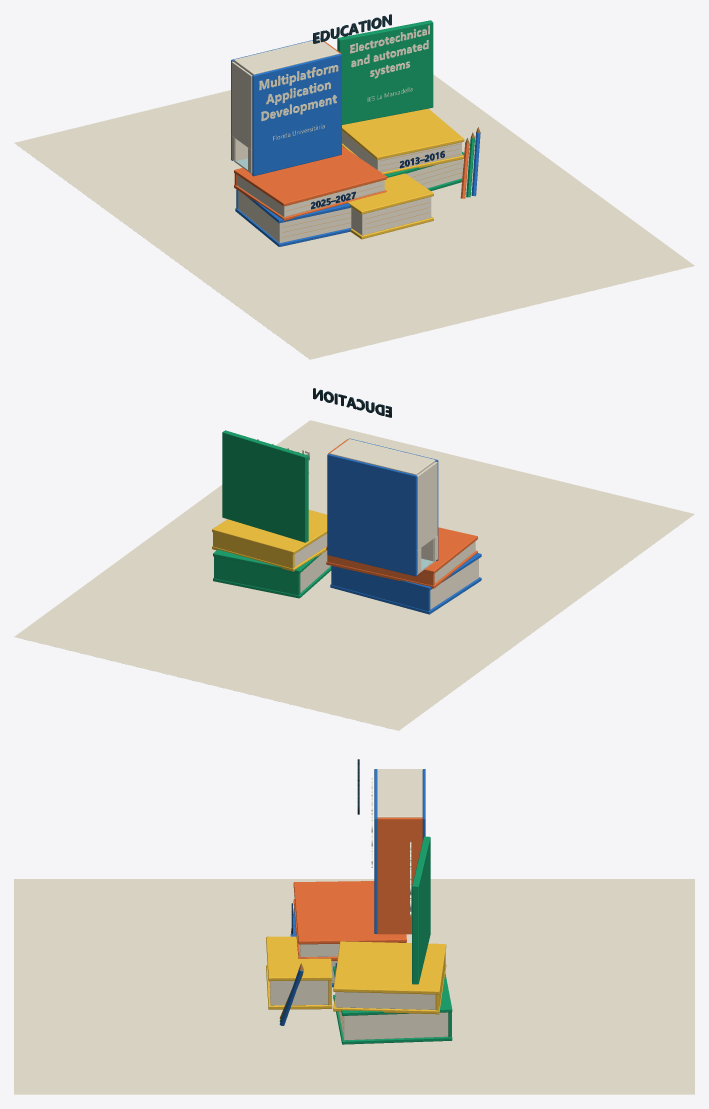
The model's file is studies.glb.
The picture shows the model from 3 angles, top to bottom: view 1: azimuth 30°, elevation 25°; view 2: azimuth 150°, elevation 25°; view 3: azimuth 270°, elevation 25°; orthographic projection. The views are drawn at different scales.
Visible parts, largest first — view 1: Suelo · biblioteca continua.001, Estudios · libro vertical cubierta.002, Estudios · curso eléctrico soporte.001, Libro naranja · cubierta.003, Libro amarillo · cubierta.003, Libro azul · páginas.001, Estudios · libro vertical canto.003, Libro frontal · páginas.001, Libro · canto superior cerrado.001, Libro frontal · cubierta.003, Estudios · curso DAM.001, Libro naranja · páginas.001 (+5 smaller); view 2: Suelo · biblioteca continua.001, Estudios · libro vertical cubierta.003, Estudios · curso eléctrico soporte.001, Libro azul · lomo.001, Libro amarillo · cubierta.003, Libro verde · lomo.001, Estudios · libro vertical canto.003, Libro · canto superior cerrado.001, Libro amarillo · lomo.001, Libro naranja · cubierta.003, Libro azul · páginas.001, Libro naranja · lomo.001 (+5 smaller); view 3: Suelo · biblioteca continua.001, Libro naranja · cubierta.003, Libro amarillo · cubierta.003, Estudios · libro vertical lomo.001, Libro verde · páginas.001, Estudios · libro vertical canto.003, Estudios · curso eléctrico soporte.001, Libro frontal · cubierta.003, Libro amarillo · páginas.001, Libro frontal · páginas.001, Estudios · libro vertical cubierta.002, Libro verde · cubierta.002 (+2 smaller).
Part boxes in pixels (left/top/right/bottom): Suelo · biblioteca continua.001: left=14, top=74, right=694, bottom=359; Estudios · libro vertical cubierta.002: left=252, top=53, right=341, bottom=176; Estudios · curso eléctrico soporte.001: left=337, top=20, right=433, bottom=124; Libro naranja · cubierta.003: left=234, top=146, right=386, bottom=206; Libro amarillo · cubierta.003: left=342, top=108, right=464, bottom=159; Libro azul · páginas.001: left=238, top=191, right=351, bottom=242; Estudios · libro vertical canto.003: left=234, top=39, right=339, bottom=75; Libro frontal · páginas.001: left=351, top=197, right=431, bottom=235; Libro · canto superior cerrado.001: left=231, top=61, right=252, bottom=149; Libro frontal · cubierta.003: left=347, top=173, right=433, bottom=214; Estudios · curso DAM.001: left=259, top=65, right=338, bottom=120; Libro naranja · páginas.001: left=237, top=175, right=384, bottom=217; Suelo · biblioteca continua.001: left=14, top=420, right=694, bottom=730; Estudios · libro vertical cubierta.003: left=327, top=454, right=416, bottom=576; Estudios · curso eléctrico soporte.001: left=222, top=430, right=308, bottom=542; Libro azul · lomo.001: left=331, top=566, right=430, bottom=611; Libro amarillo · cubierta.003: left=212, top=509, right=327, bottom=554; Libro verde · lomo.001: left=214, top=556, right=300, bottom=595; Estudios · libro vertical canto.003: left=330, top=439, right=435, bottom=475; Libro · canto superior cerrado.001: left=417, top=461, right=437, bottom=549; Libro amarillo · lomo.001: left=213, top=532, right=294, bottom=568; Libro naranja · cubierta.003: left=326, top=527, right=477, bottom=573; Libro azul · páginas.001: left=430, top=558, right=478, bottom=609; Libro naranja · lomo.001: left=327, top=555, right=434, bottom=585; Suelo · biblioteca continua.001: left=14, top=879, right=694, bottom=1094; Libro naranja · cubierta.003: left=293, top=881, right=406, bottom=944; Libro amarillo · cubierta.003: left=333, top=941, right=446, bottom=994; Estudios · libro vertical lomo.001: left=377, top=817, right=422, bottom=934; Libro verde · páginas.001: left=338, top=1011, right=448, bottom=1040; Estudios · libro vertical canto.003: left=377, top=769, right=422, bottom=817; Estudios · curso eléctrico soporte.001: left=412, top=836, right=430, bottom=984; Libro frontal · cubierta.003: left=266, top=936, right=332, bottom=981; Libro amarillo · páginas.001: left=335, top=992, right=435, bottom=1009; Libro frontal · páginas.001: left=270, top=980, right=328, bottom=1005; Estudios · libro vertical cubierta.002: left=374, top=769, right=377, bottom=933; Libro verde · cubierta.002: left=333, top=995, right=452, bottom=1044.
Size of the model in its own units: 12 by 5.34 by 16.
